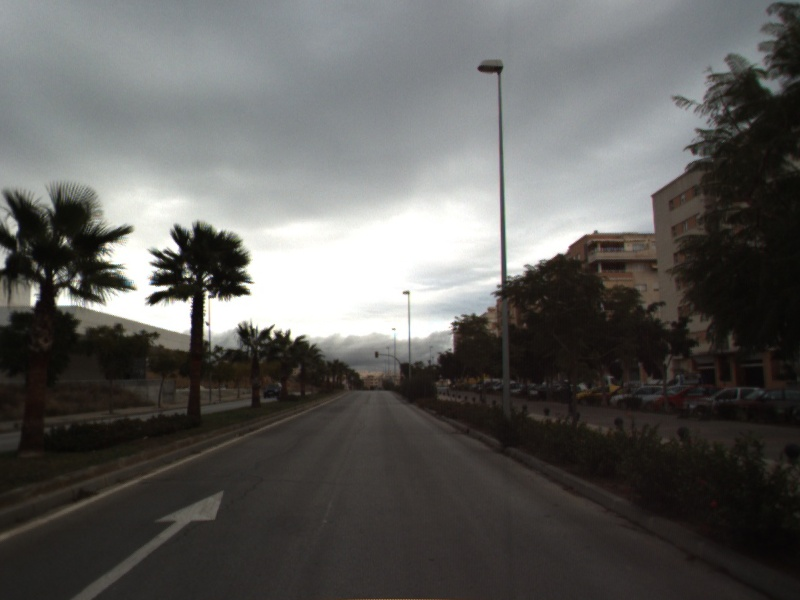STRAIGHT: (66, 488, 226, 600)
